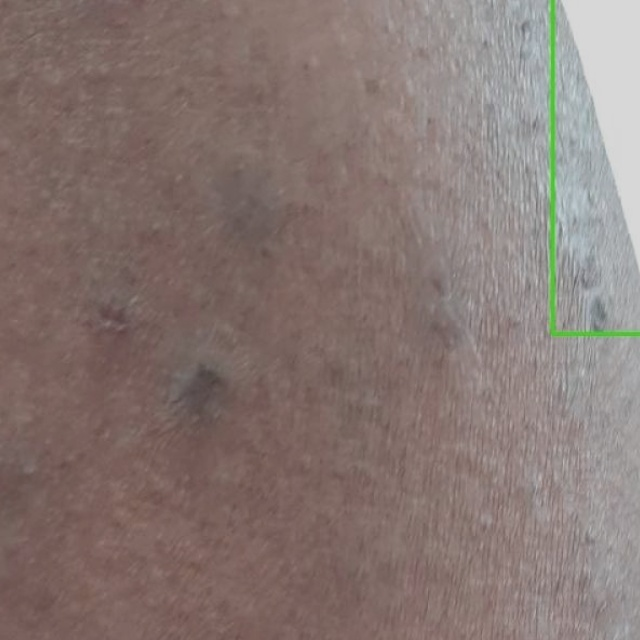Atopic Dermatitis: (552, 0, 639, 333)
